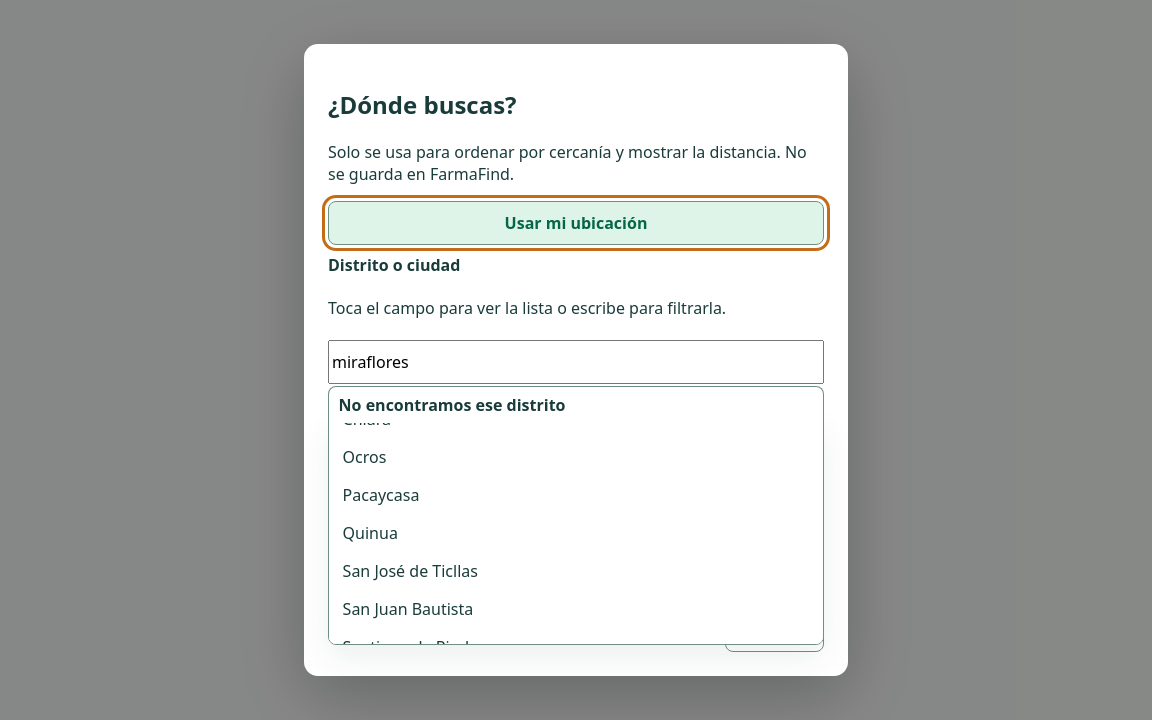
Test case: F03.1 · E-01: campo «Distrito o ciudad» › al enfocar muestra los 16; al escribir filtra; sin coincidencias avisa y vuelve a la lista completa
Earlier steps of the test are not shown.
Later steps or results of the test are not shown.
(page scrolled)
Expected: the message "No encontramos ese distrito. Elige uno de la lista o márcalo en el mapa." is shown, [328,548,824,592]
Press the mouse on the option "Quinua": [370, 533] box [343,522,398,544]
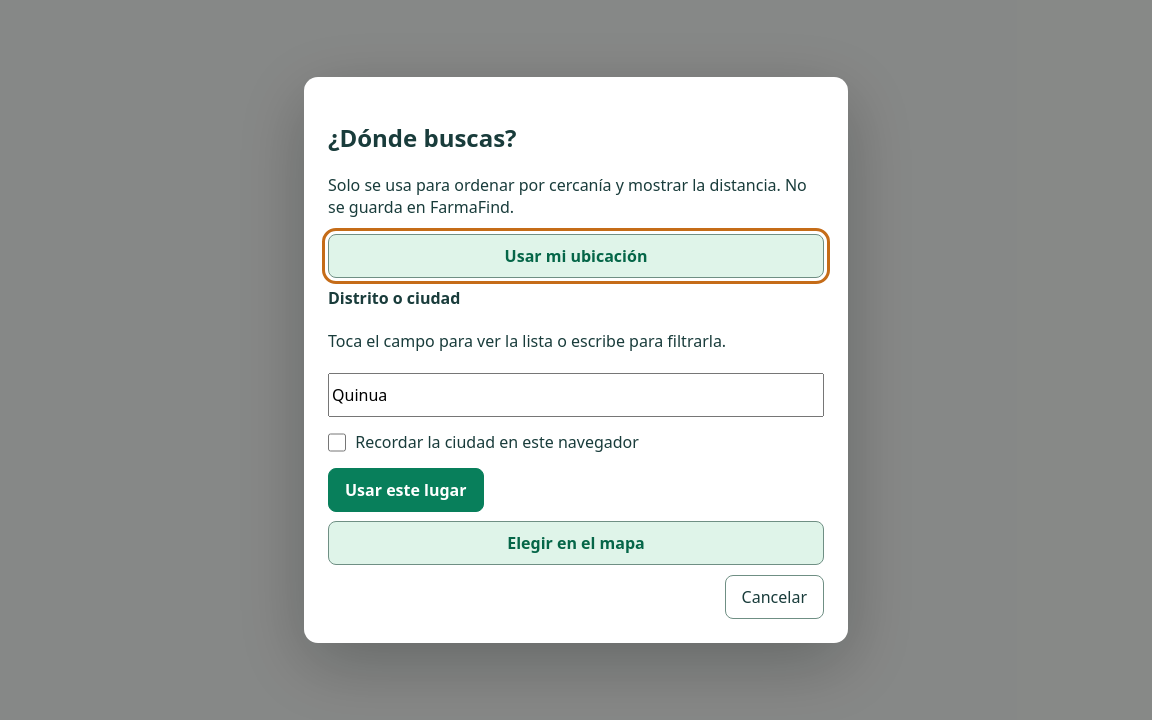
Now the dropdown labelled "Distrito o ciudad" holds "Quinua", box [328,373,824,417]
